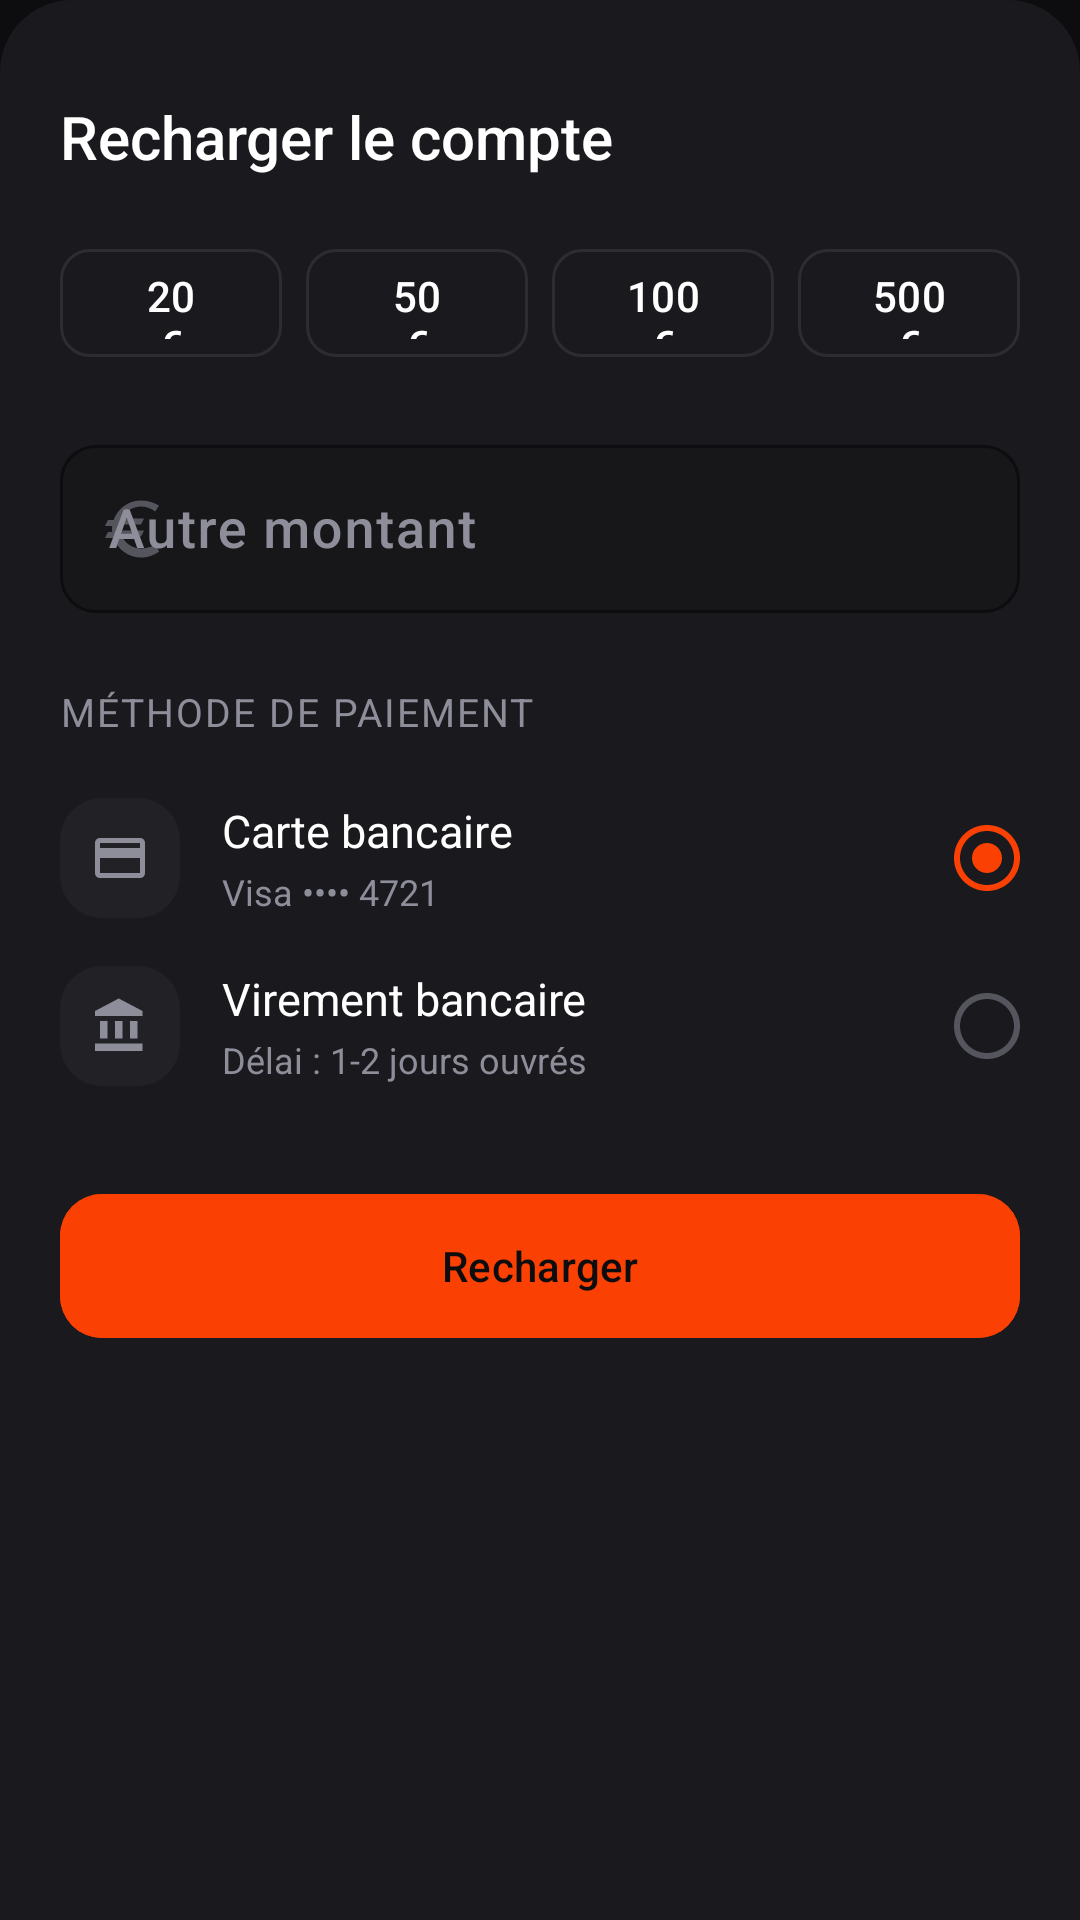

Named icons in this screenshot (1080x1920) and their centers, [x,y]:
bank: [119,1024]
card: [120,858]
radio: [987,858], [987,1026]
